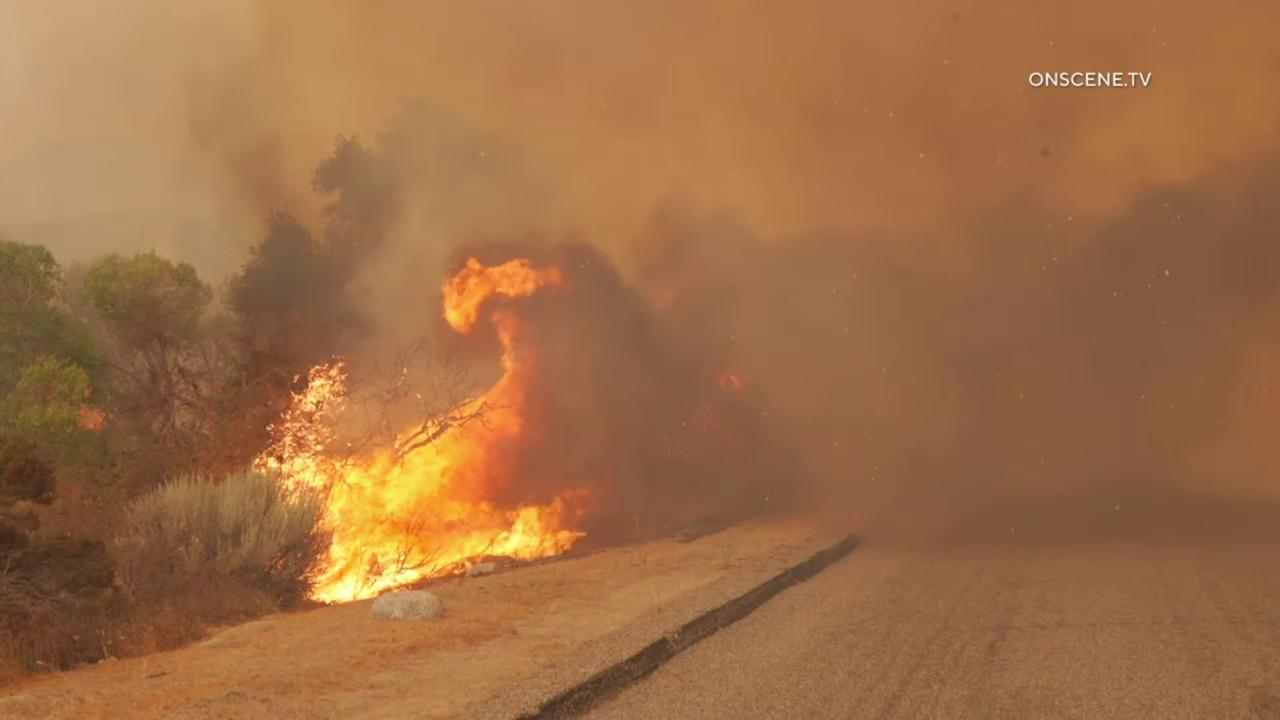fire: (251, 256, 605, 609), (68, 381, 109, 432), (719, 371, 744, 395)
smoke: (0, 0, 1280, 556)
